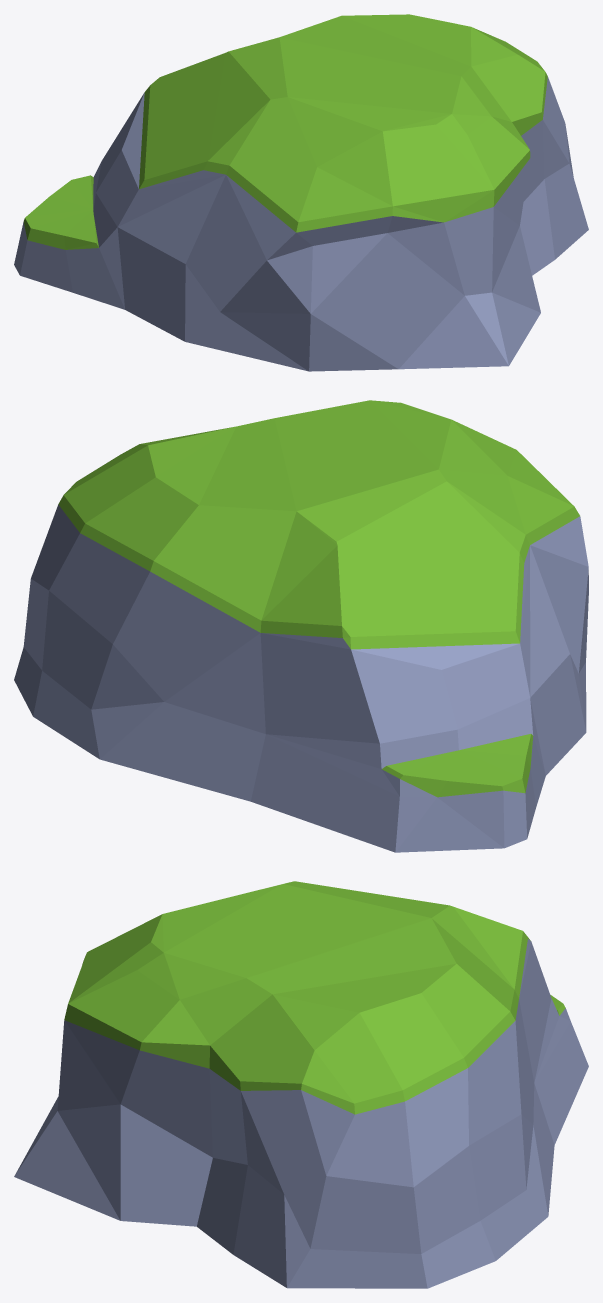
The model's file is Rock_33.fbx.
3 views of the same model, one above another, from view 1: azimuth 30°, elevation 25°; view 2: azimuth 150°, elevation 25°; view 3: azimuth 270°, elevation 25° (orthographic). The views are drawn at different scales.
Visible parts, largest first — view 1: Rock_33; view 2: Rock_33; view 3: Rock_33.
Part boxes in pixels (x1,y1,x2,y2): Rock_33: (14,14,588,371); Rock_33: (14,400,588,852); Rock_33: (14,881,588,1288).
Size of the model in its own units: 7.85 by 3.31 by 7.24.
